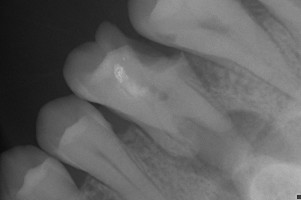Furcation Involvement: (173, 109, 301, 200)
